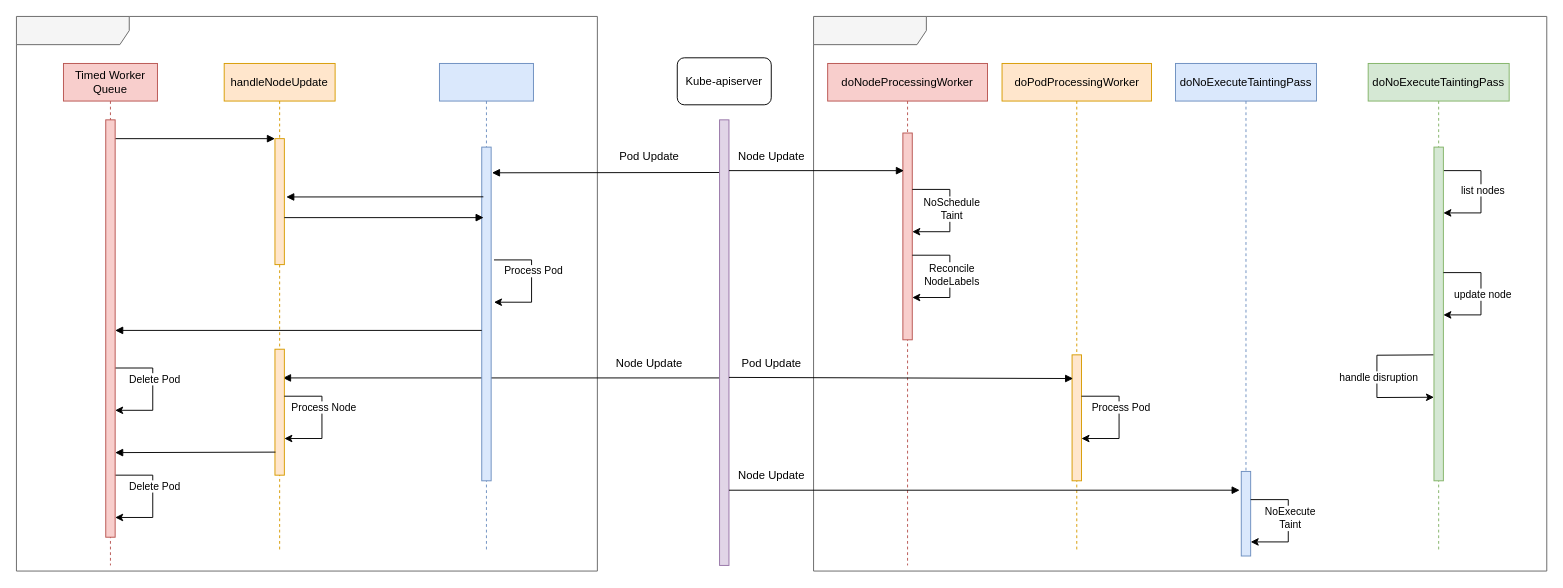
Some shapes in this 1563 by 588 pixel diagram are drawn without their labels. The shapes that lost their labels are listed below. From the top down, each one's box as (x1, y1, x2, y2) in pixels, then its label:
(16, 16, 597, 571): taint eviction
(439, 63, 533, 552): handlePodUpdate
(813, 16, 1547, 571): node lifecycle
